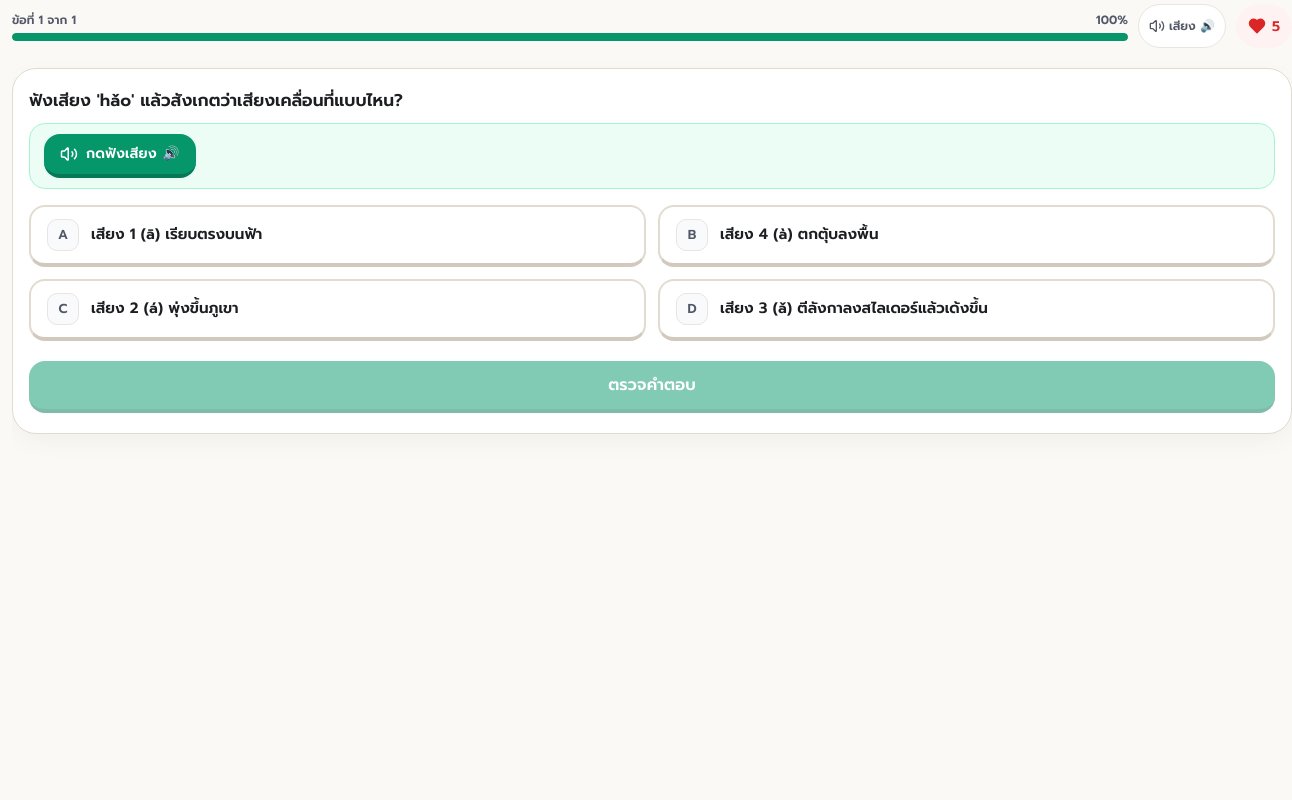
QuizContainer Component (Phase 2 Slice 2.5) › Runtime Shuffling & Resilient Sharing › defaults to shuffleOptions=true, maintaining letter badges A-D while correctly validating text
Click the radio button labelled "D เสียง 3 (ǎ) ตีลังกาลงสไลเดอร์แล้วเด้งขึ้น" at (966, 310), box [658,279,1275,341]
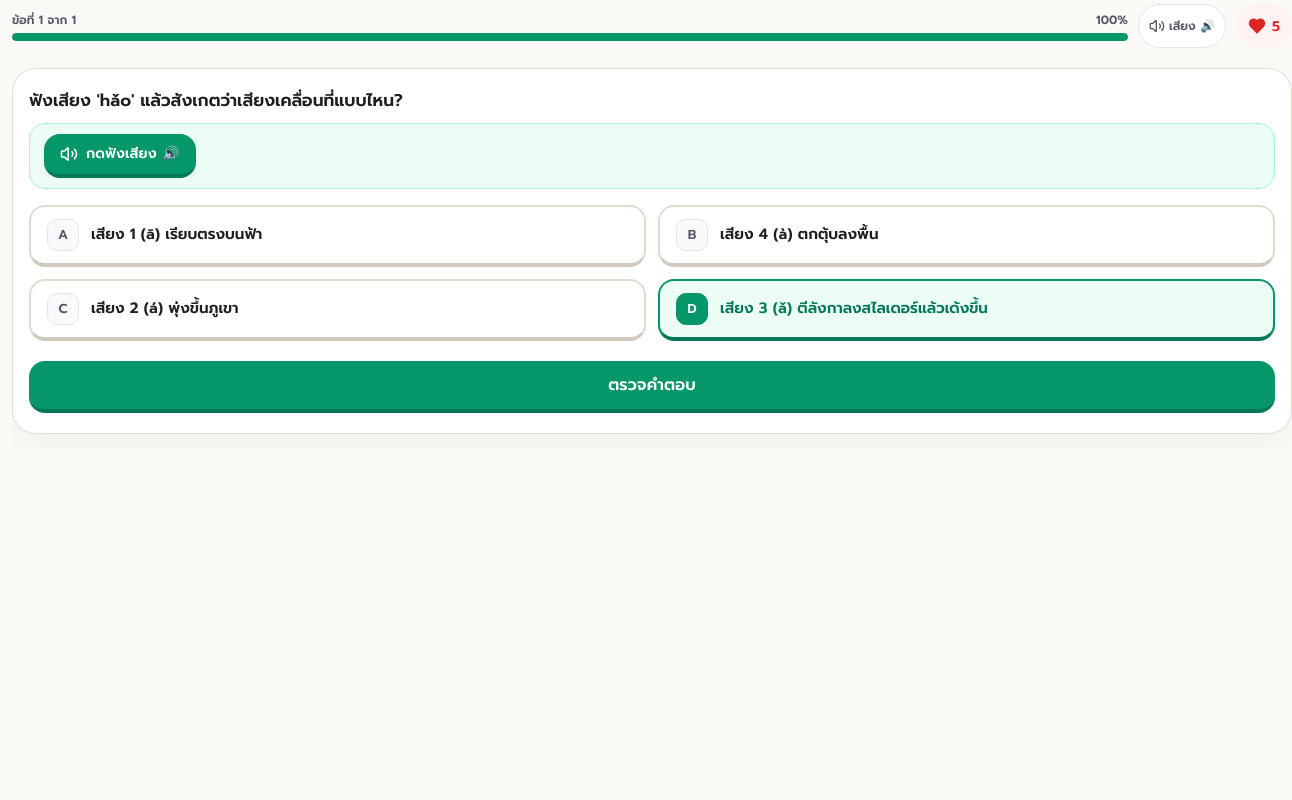
Click the button with aria-label "ตรวจคำตอบ" at (652, 387), box [29,361,1275,413]
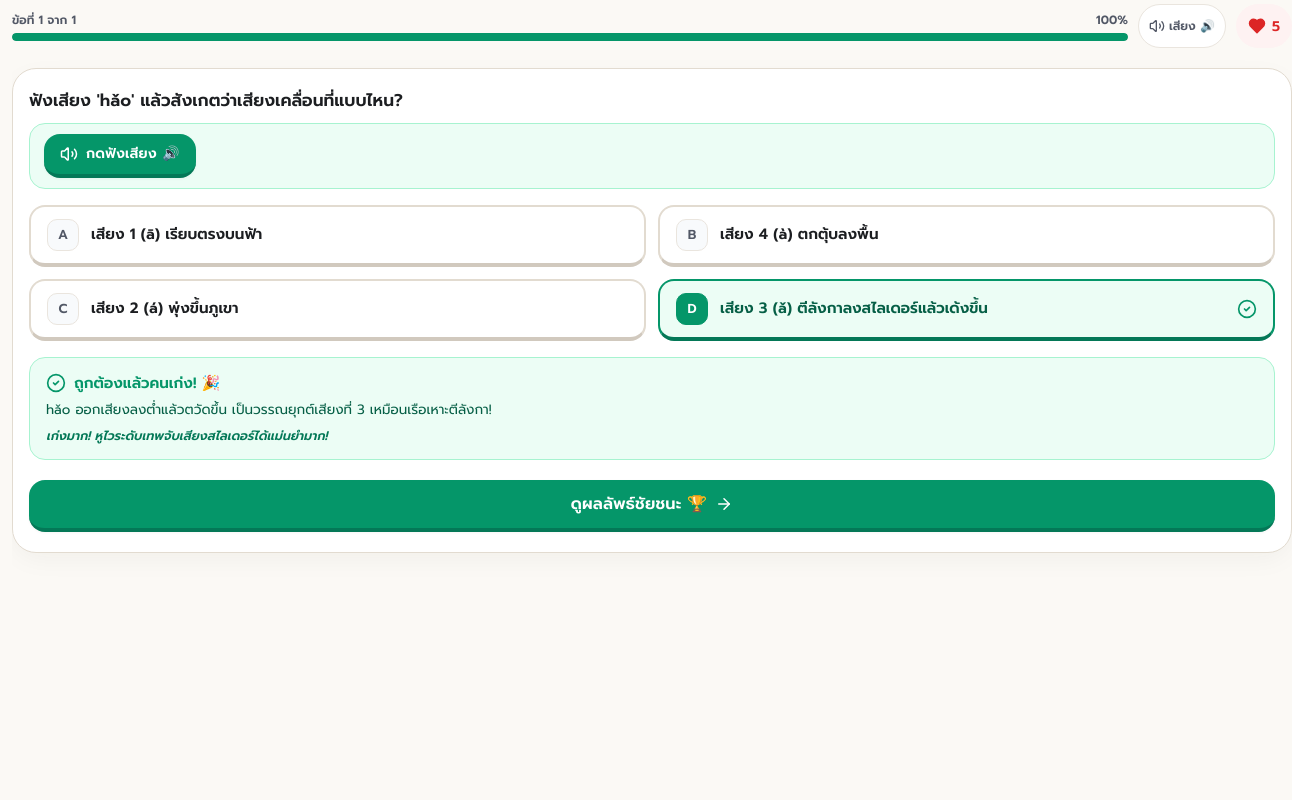
Check: the text "ถูกต้องแล้วคนเก่ง!" is shown, box [74,372,220,394]
